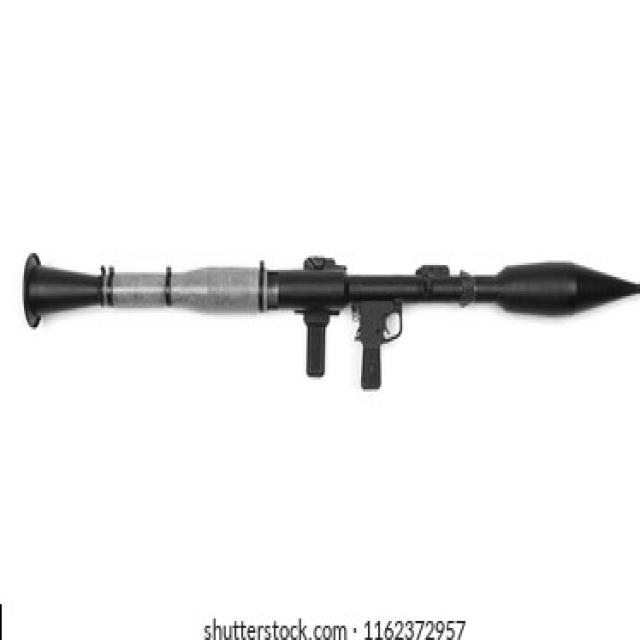Weapon: (22, 253, 640, 387)
